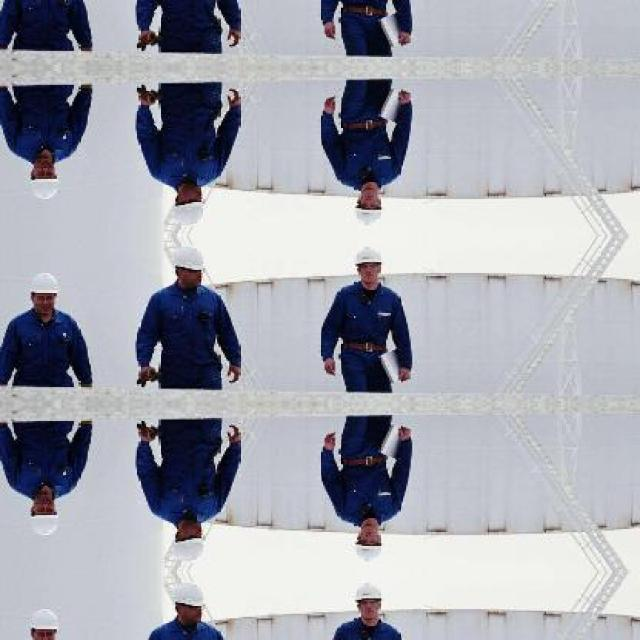helmet: (24, 268, 59, 316), (24, 154, 59, 202), (24, 491, 59, 539), (170, 245, 204, 288), (170, 183, 204, 226), (170, 520, 204, 563), (170, 582, 204, 624), (23, 604, 60, 637), (354, 243, 380, 286), (354, 185, 380, 228), (354, 580, 380, 623), (354, 522, 380, 564)
